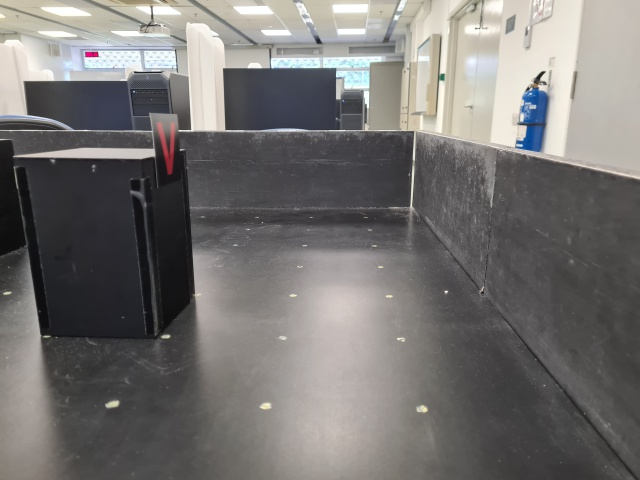alphabet_v: (148, 111, 184, 189)
